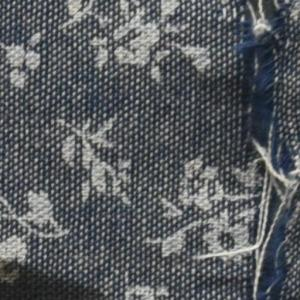Damage: (224, 1, 300, 300)
Stain: (1, 252, 113, 300)
